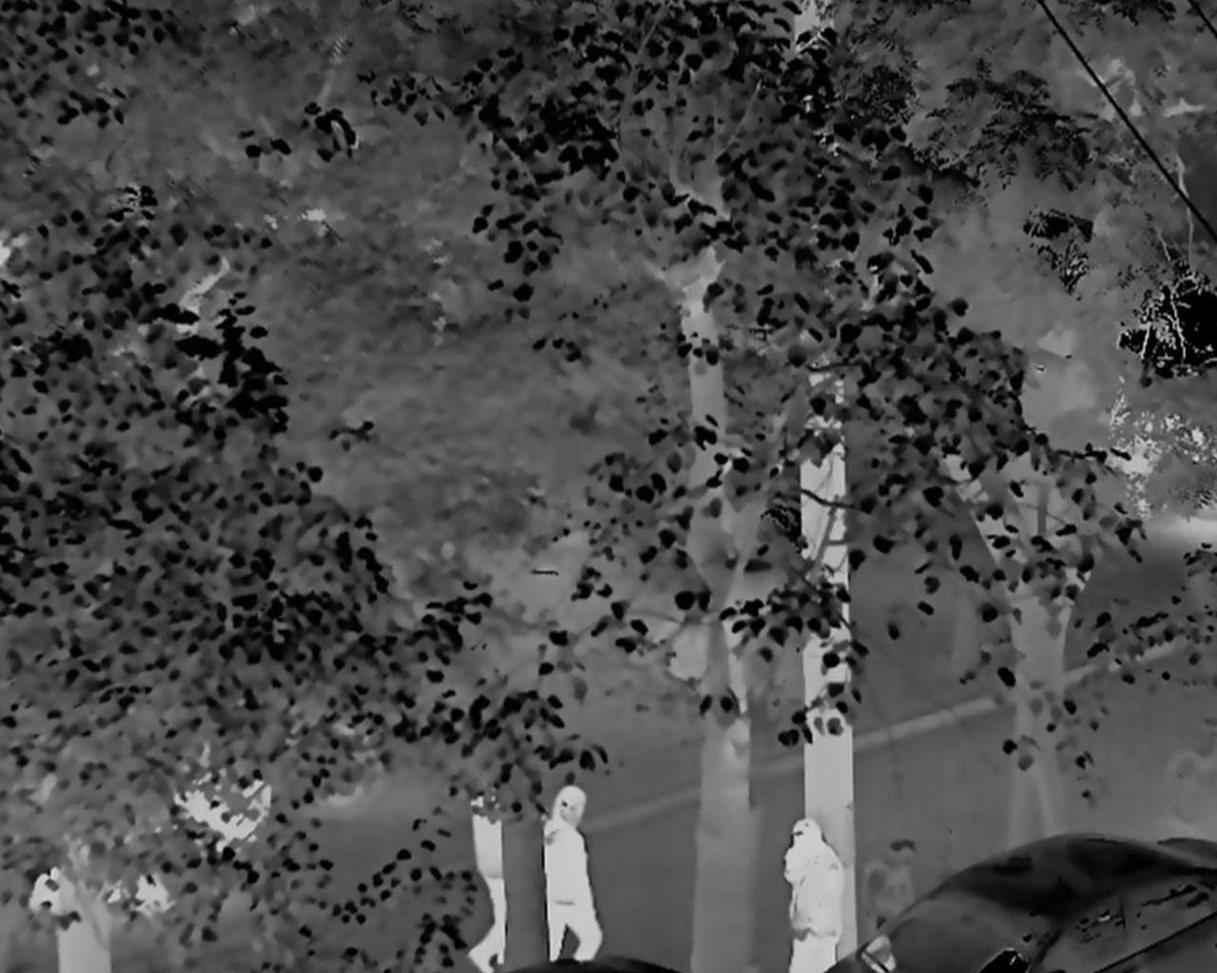person: (540, 783, 604, 971), (460, 784, 521, 973), (783, 820, 840, 973)
